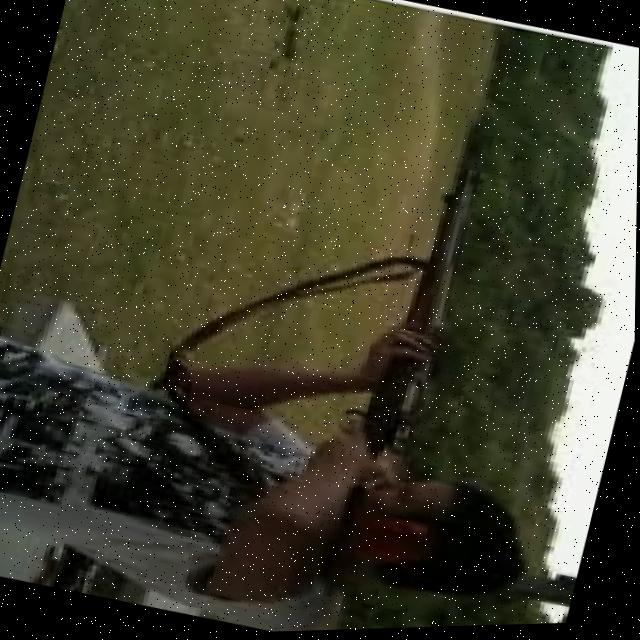firearm: (308, 145, 498, 544)
